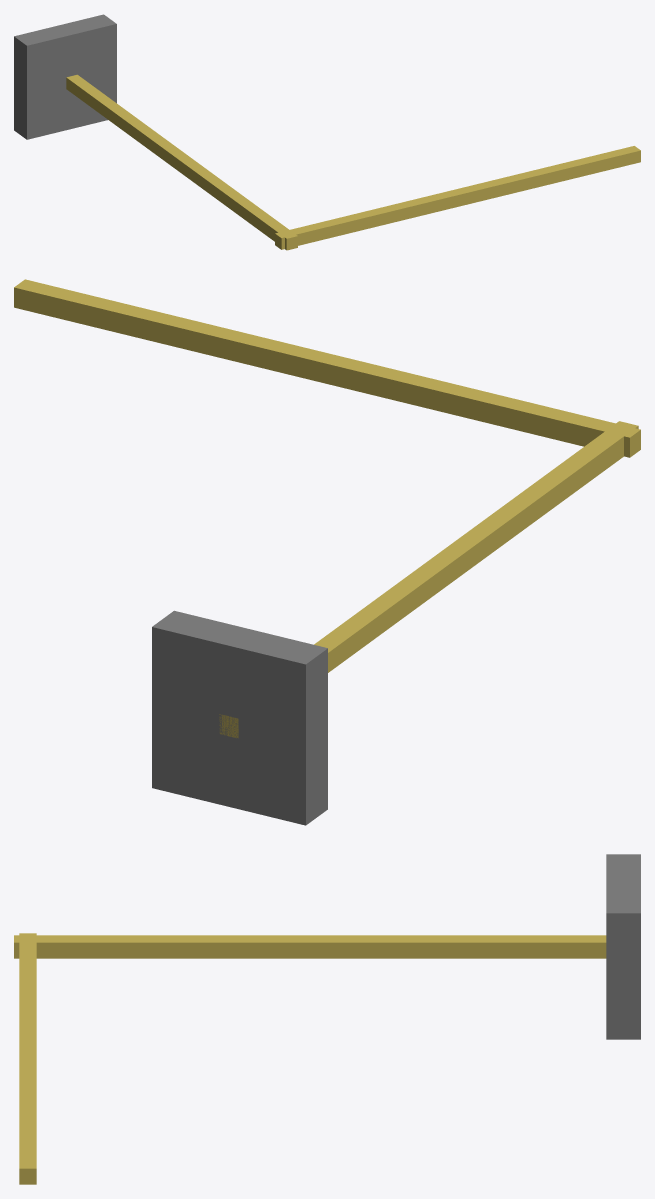
File: construction_crane.glb
3 renders of one model, top to bottom at view 1: azimuth 30°, elevation 25°; view 2: azimuth 150°, elevation 25°; view 3: azimuth 270°, elevation 25°, orthographic. The views are drawn at different scales.
Parts seen in each view (by area): view 1: base, boom, mast; view 2: base, boom, mast; view 3: mast, base, boom.
Boxes of the visible parts, x1,y1,x2,y2 form: base: [14, 14, 116, 139]; boom: [275, 146, 640, 249]; mast: [66, 74, 297, 250]; base: [152, 610, 327, 825]; boom: [14, 279, 640, 457]; mast: [219, 421, 638, 738]; mast: [14, 935, 606, 958]; base: [606, 854, 640, 1039]; boom: [19, 933, 36, 1184].
Size of the model in its own units: 8.8 by 2 by 9.
